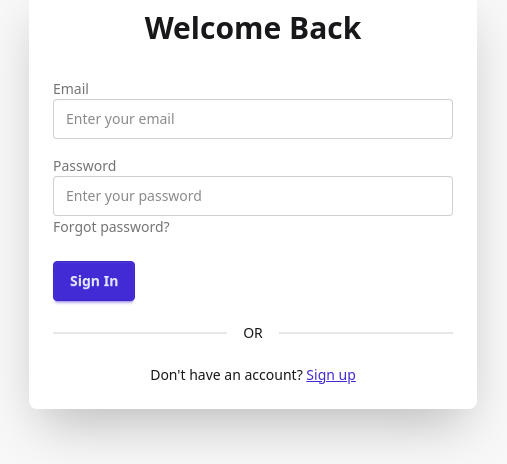
Test: Login Component › shows loading state when form is submitted
Step 1. Type "test@example.com" into the field with placeholder "Enter your email" → (253, 118), box [53,98,453,138]
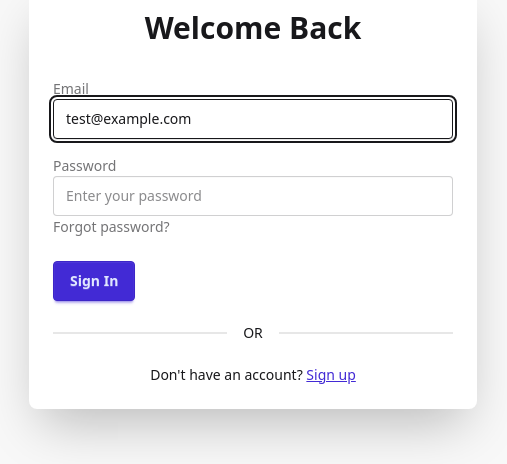
Step 2. Type "password123" into the password field with placeholder "Enter your password" → (253, 196), box [53,176,453,216]
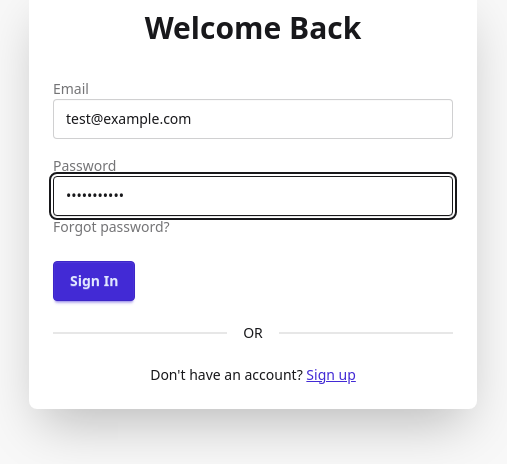
Step 3. Click the button "Sign In" → (94, 280), box [53,260,135,300]
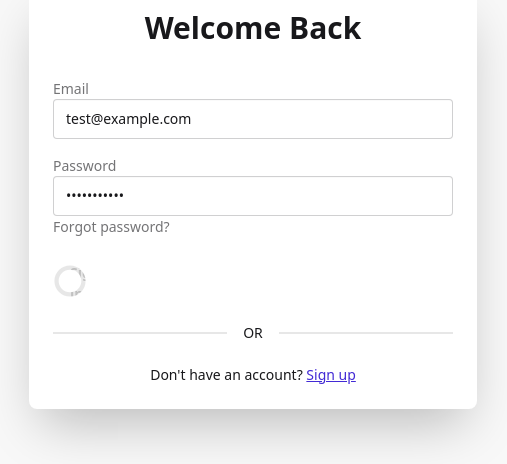
Check: the button "Signing in..." is shown, box [53,260,87,300]
